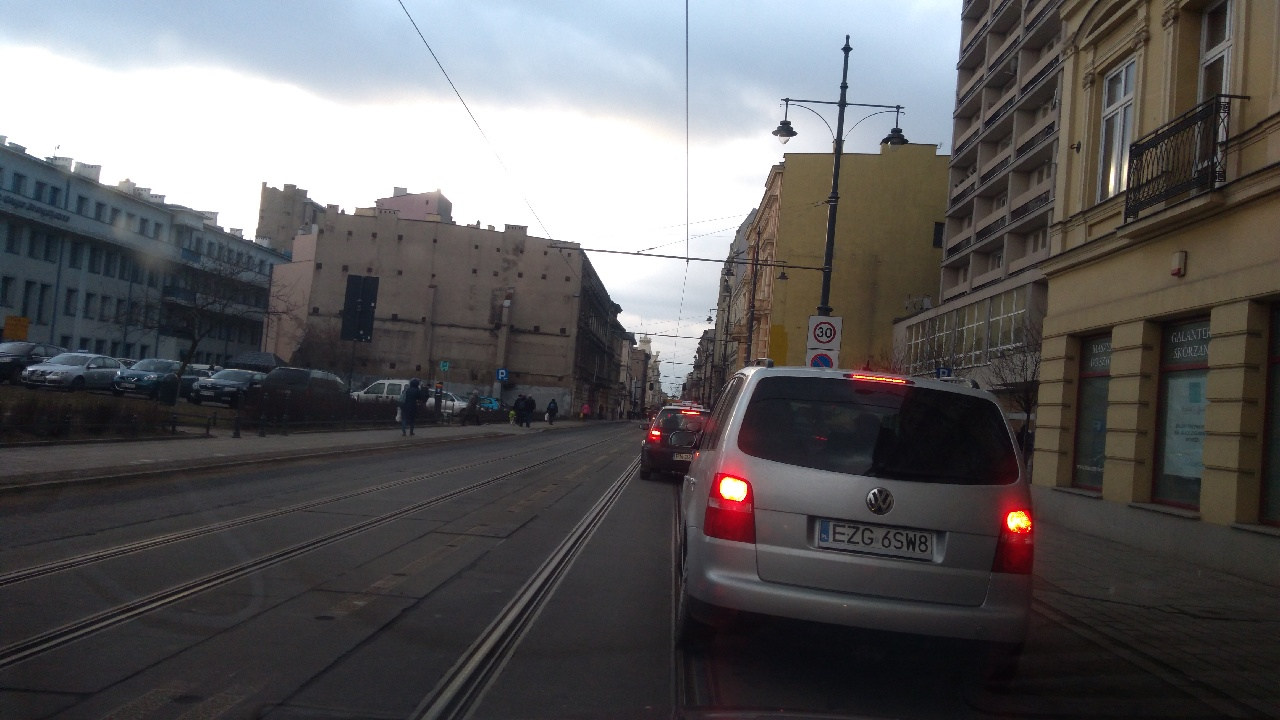B43_30: (808, 315, 842, 350)
